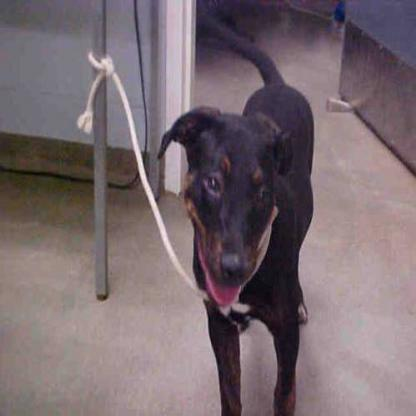dog: (141, 44, 371, 348)
